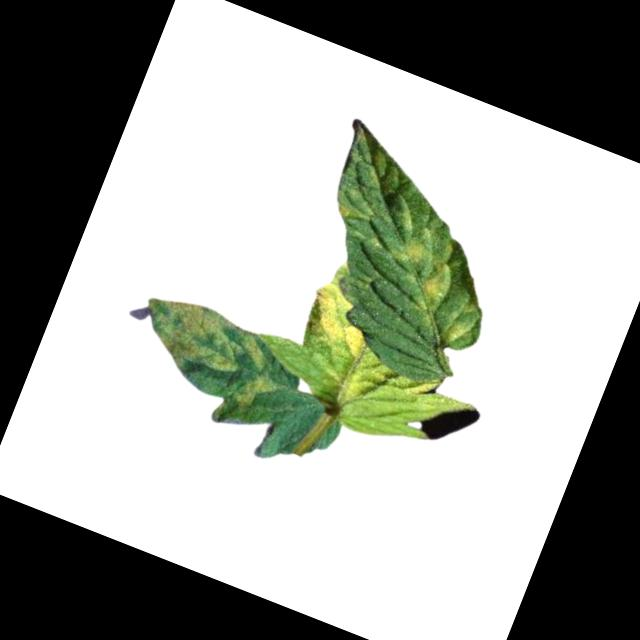Leaf_Mold: (116, 284, 293, 436), (295, 252, 392, 365), (379, 223, 469, 315), (436, 293, 486, 353)
